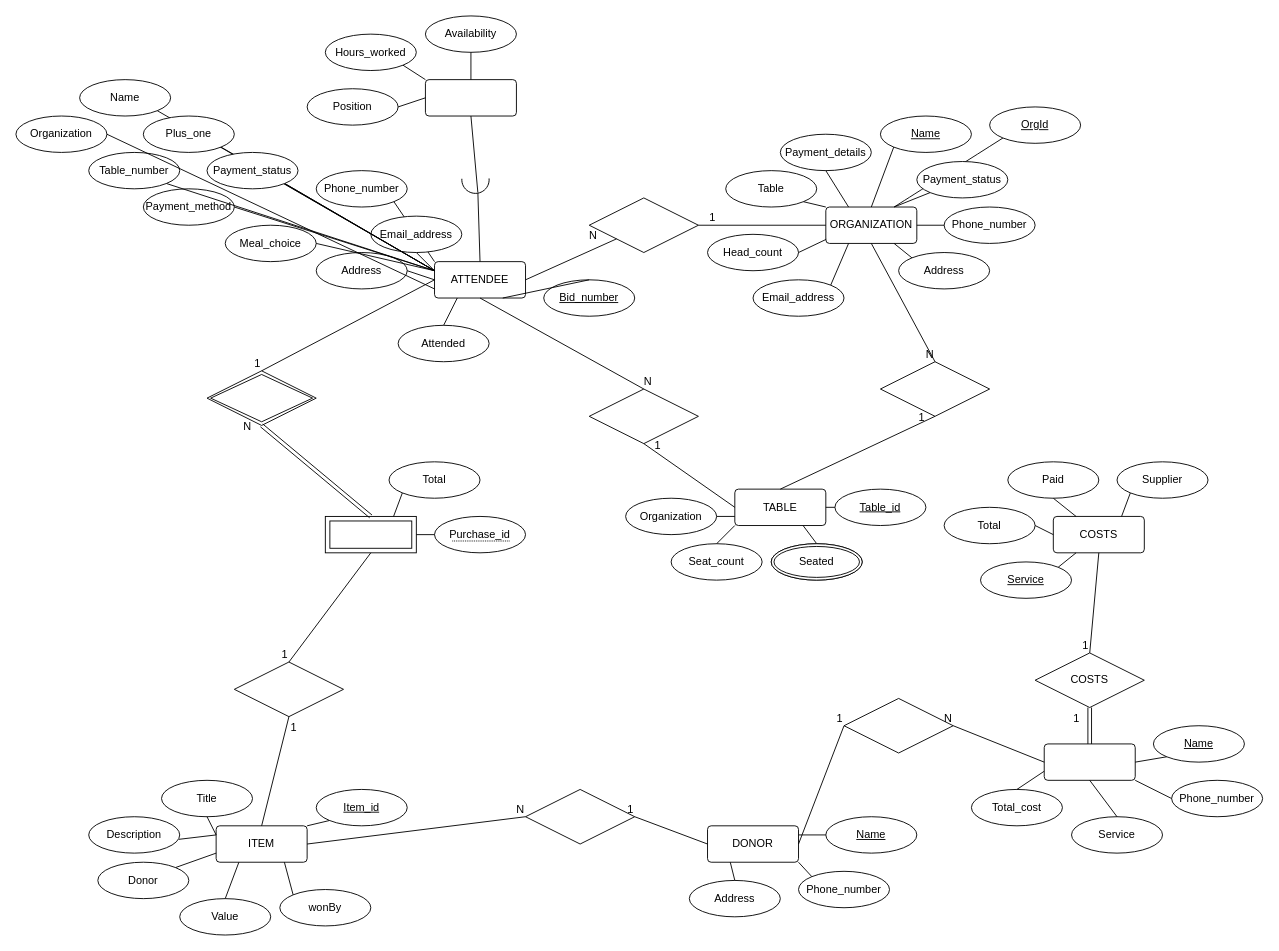
This 1279x951 diagram has some shape labels left out. The shapes that lost their labels are listed below. From the top down, each one's centre as x and y in pixels, then its label:
At [470,97]: "VOLUNTEER".
At [643,225]: "BELONGS TO".
At [261,397]: "MAKES".
At [935,388]: "PAYS FOR".
At [643,416]: "SITS AT".
At [370,534]: "PURCHASE".
At [288,689]: "WINS".
At [898,725]: "PROVIDES".
At [1089,761]: "VENDOR".
At [580,816]: "DONATES".
